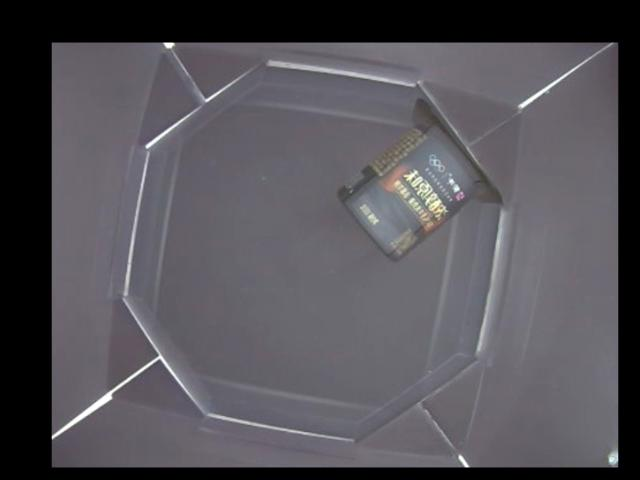Cup: (337, 99, 504, 260)
